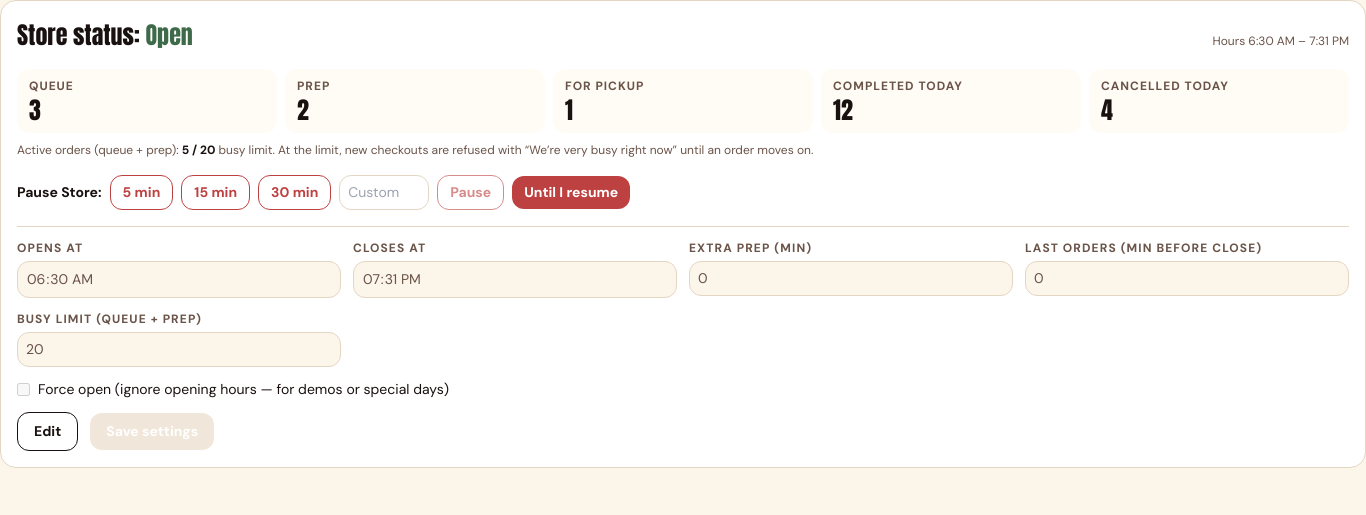
StoreControlPanel (issue #115 follow-up) › flags a close time before the open time at once, and blocks Save
This screenshot has width=1366, height=515.
Click the button "Edit": (48, 432) [17,412,78,451]
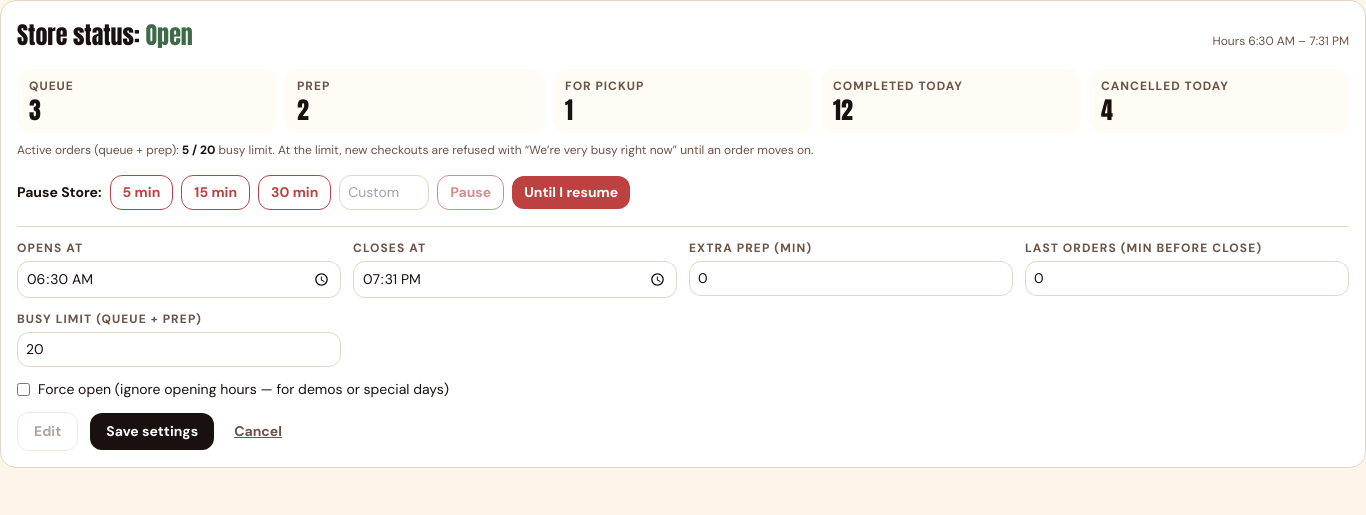
Replace the text in the time field labelled "Closes at" with "05:00": (515, 280) [353,261,677,298]
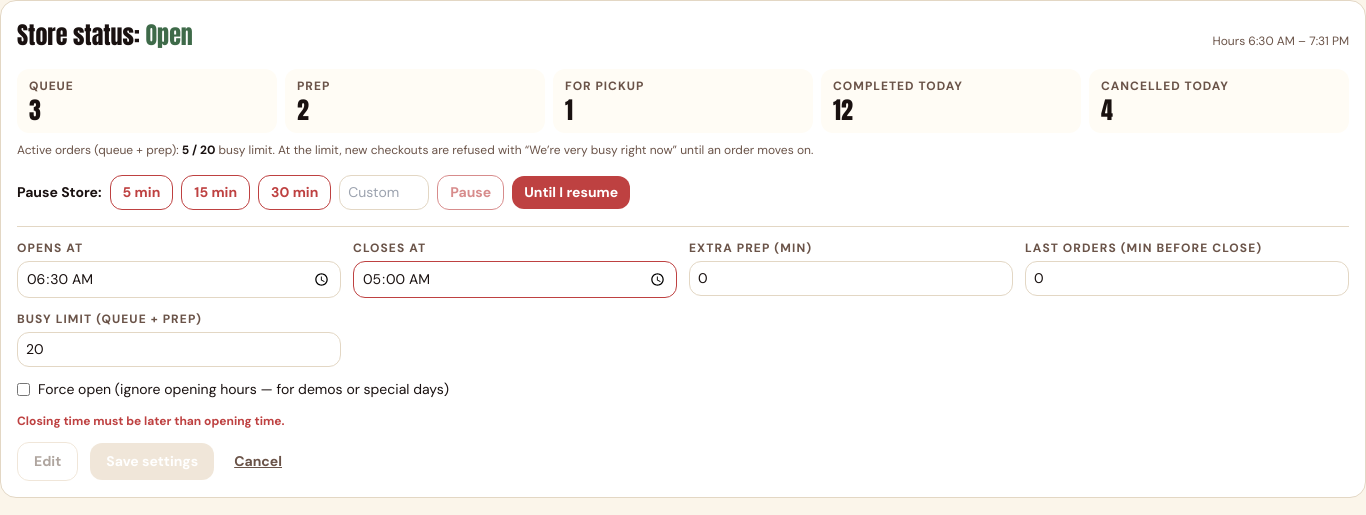
Check: the message reads "Closing time must be later than opening time.", box [17,413,285,429]
Check: the button "Save settings" is disabled, box [90,443,214,480]
Replace the text in the time field labelled "Closes at" with "20:15": (515, 280) [353,261,677,298]
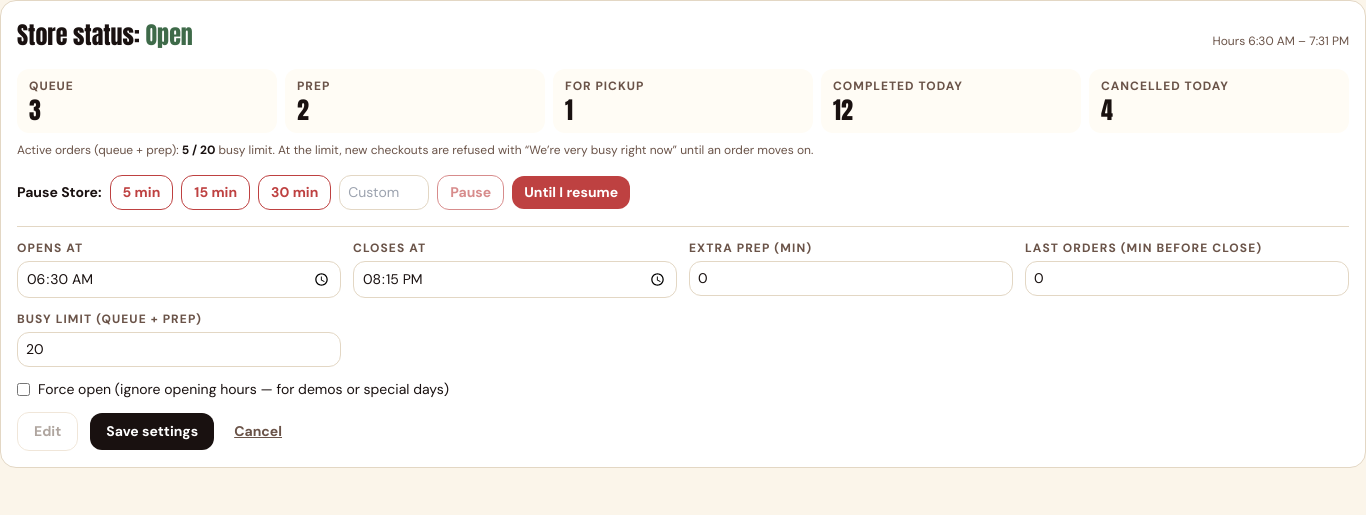
Check: the message "Closing time must be later than opening time." is gone
Check: the button "Save settings" is enabled, box [90,413,214,450]
